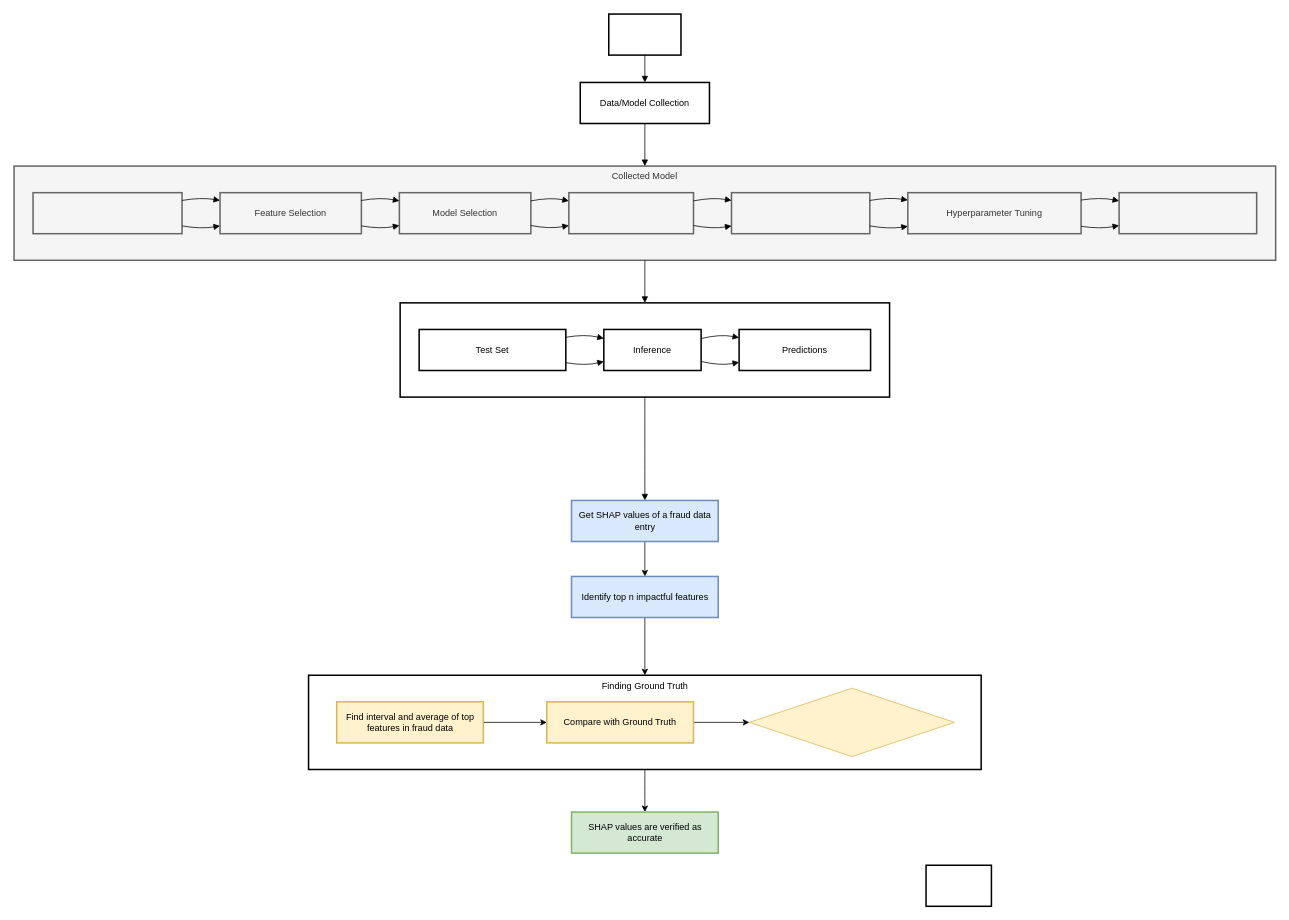
Image size: 1289x920. Some labels were removed from this diagram. The centre of each missing label's shape, as x and y in pixels:
"Data Preprocessing" belongs at pixel 107 213.
"Does Ground Truth align with SHAP?" belongs at pixel 852 722.
"End" belongs at pixel 958 885.
"Model Evaluation" belongs at pixel 800 213.
"Model Training" belongs at pixel 631 213.
"Optimized Model" belongs at pixel 1187 213.
"Start" belongs at pixel 644 34.
